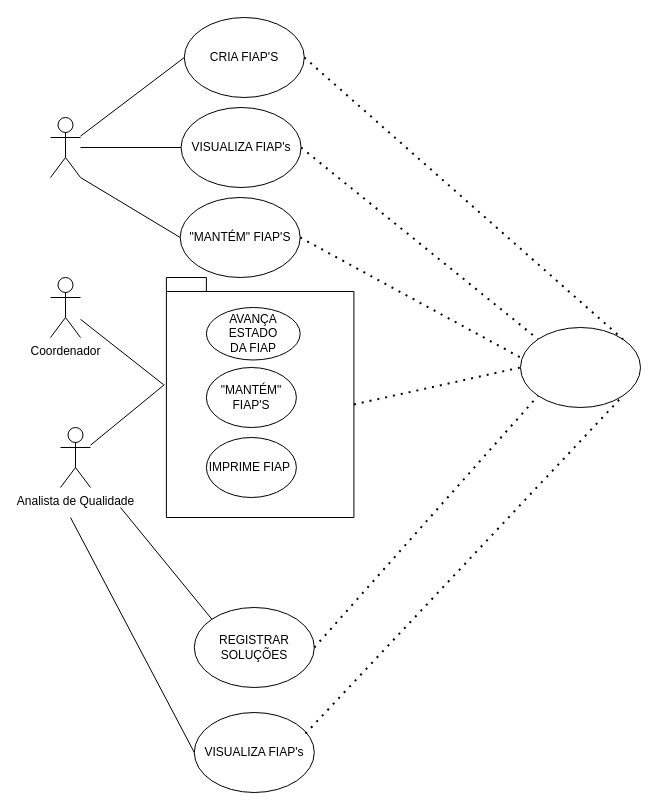
Some shapes in this 658 by 810 pixel diagram are drawn without their labels. The centre of each missing label's shape, as x and y in pixels:
LOGIN: (580,367)
Professores: (65,147)
